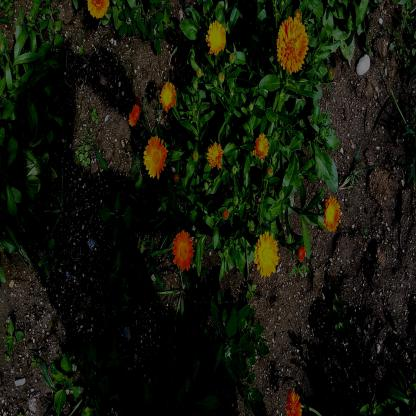marigold: (276, 16, 308, 74), (253, 230, 280, 278), (143, 134, 167, 180), (171, 229, 195, 273), (204, 20, 226, 56), (323, 194, 341, 232), (159, 80, 176, 111), (252, 132, 269, 162), (206, 142, 224, 170), (127, 104, 140, 126)
